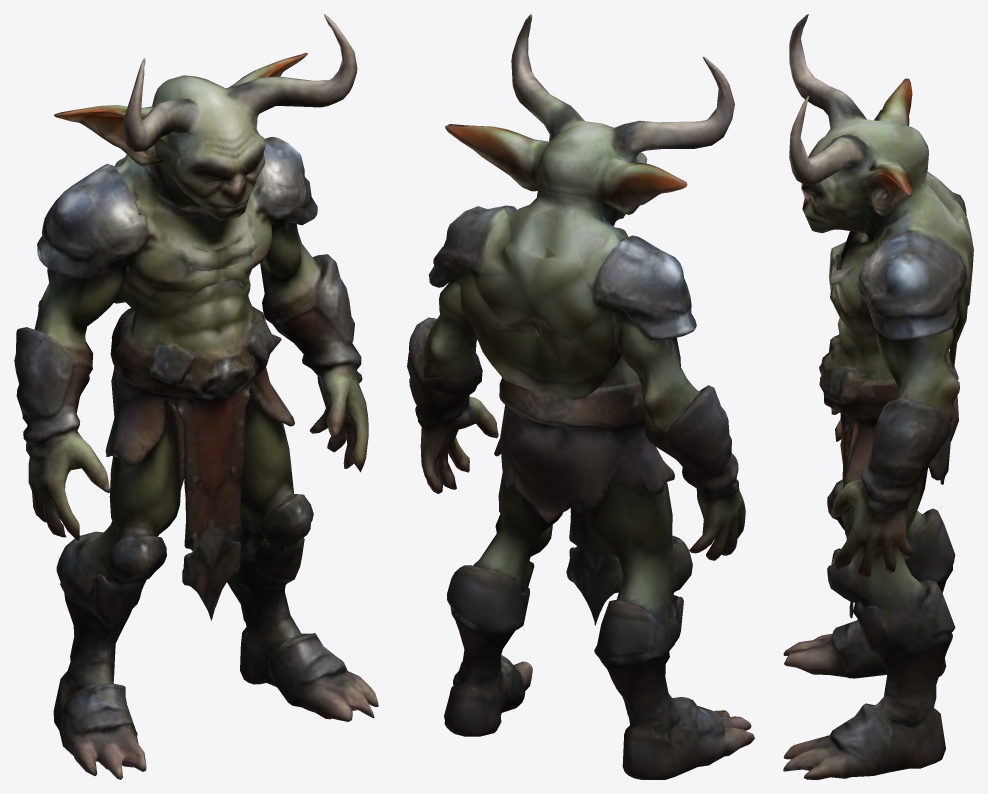
The model's file is g_20b2fede.glb.
The picture shows the model from 3 angles, left to right: view 1: azimuth 30°, elevation 25°; view 2: azimuth 150°, elevation 25°; view 3: azimuth 270°, elevation 25°; orthographic projection. The views are drawn at different scales.
Visible parts, largest first — view 1: Mesh_0; view 2: Mesh_0; view 3: Mesh_0.
Part boxes in pixels (x1,y1,x2,y2): Mesh_0: (14,14,378,779); Mesh_0: (407,14,754,779); Mesh_0: (783,14,973,779).
Bounding box in the file's own units: 0.7321 × 1.5 × 0.3897.
1 material, 1 textured.
